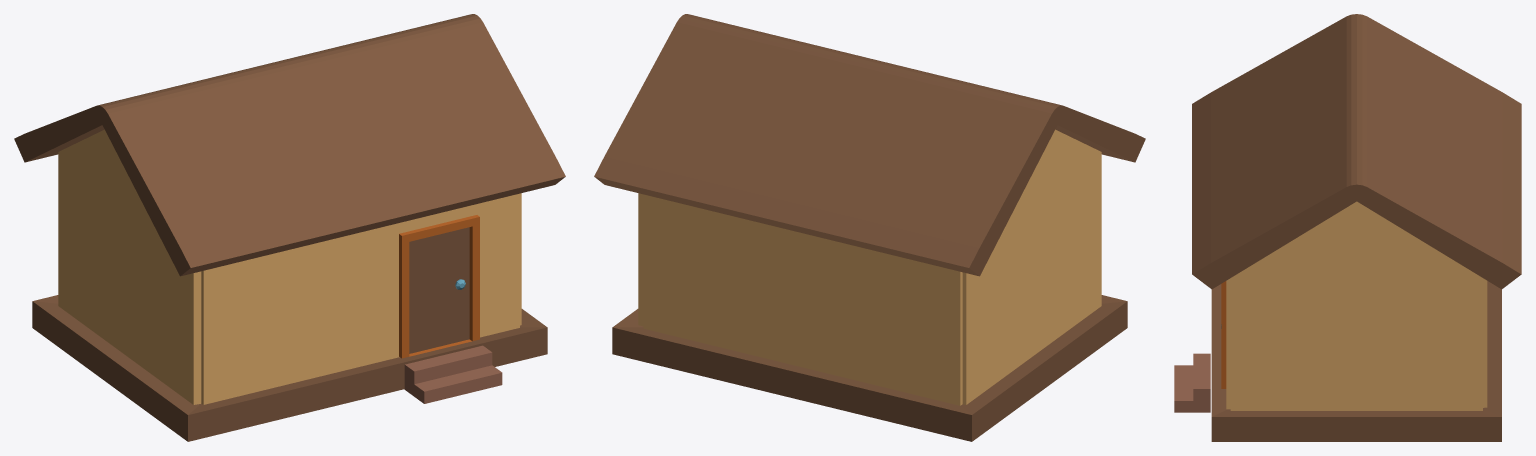
Rendered from Generator Room.fbx.
3 renders of one model, left to right at view 1: azimuth 30°, elevation 25°; view 2: azimuth 150°, elevation 25°; view 3: azimuth 270°, elevation 25°, orthographic. The views are drawn at different scales.
Parts seen in each view (by area): view 1: Atap, Tembok, TembokS, Bangunan, Papan Pintu, SegitigaPinggir, Tangga, Pinggiran Pintu, Segitiga; view 2: Atap, Tembok2, TembokS, Bangunan, Segitiga, TembokS2; view 3: Atap, TembokS2, Bangunan, Segitiga2, Tangga, SegitigaPinggir, Tembok2, Pinggiran Pintu.
Part boxes in pixels (box(x1,y1,x2,y2)): Atap: box(14, 14, 565, 276); Tembok: box(201, 201, 497, 404); TembokS: box(58, 149, 201, 404); Bangunan: box(32, 295, 547, 441); Papan Pintu: box(409, 227, 469, 353); SegitigaPinggir: box(477, 193, 519, 336); Tangga: box(404, 345, 502, 403); Pinggiran Pintu: box(399, 215, 479, 358); Segitiga: box(63, 129, 145, 209); Atap: box(594, 14, 1145, 276); Tembok2: box(643, 194, 962, 405); TembokS: box(962, 149, 1101, 404); Bangunan: box(612, 295, 1127, 441); Segitiga: box(1014, 129, 1096, 209); TembokS2: box(638, 193, 643, 326); Atap: box(1192, 14, 1521, 289); TembokS2: box(1230, 261, 1482, 410); Bangunan: box(1211, 281, 1501, 441); Segitiga2: box(1258, 201, 1455, 261); Tangga: box(1174, 353, 1210, 412); SegitigaPinggir: box(1226, 278, 1230, 409); Tembok2: box(1483, 278, 1487, 407); Pinggiran Pintu: box(1221, 281, 1226, 388).
Bounding box in the file's own units: 960 × 685 × 825.
